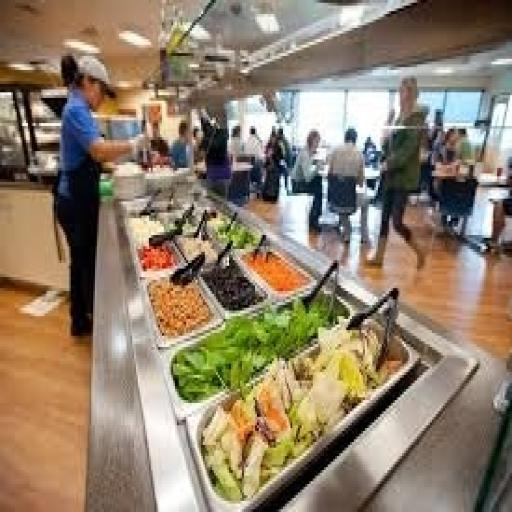eating: (52, 50, 155, 338)
